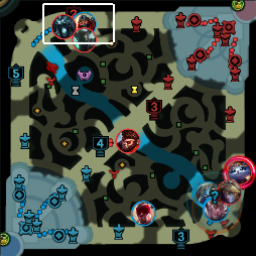ezreal: (216, 179, 240, 205)
fizz: (193, 181, 221, 206)
karthus: (50, 13, 75, 38)
leesin: (130, 199, 156, 226)
monkeyking: (114, 128, 139, 152)
mordekaiser: (70, 26, 96, 52)
rakan: (204, 196, 228, 220)
yuumi: (226, 159, 249, 183)
zed: (71, 12, 94, 35)
